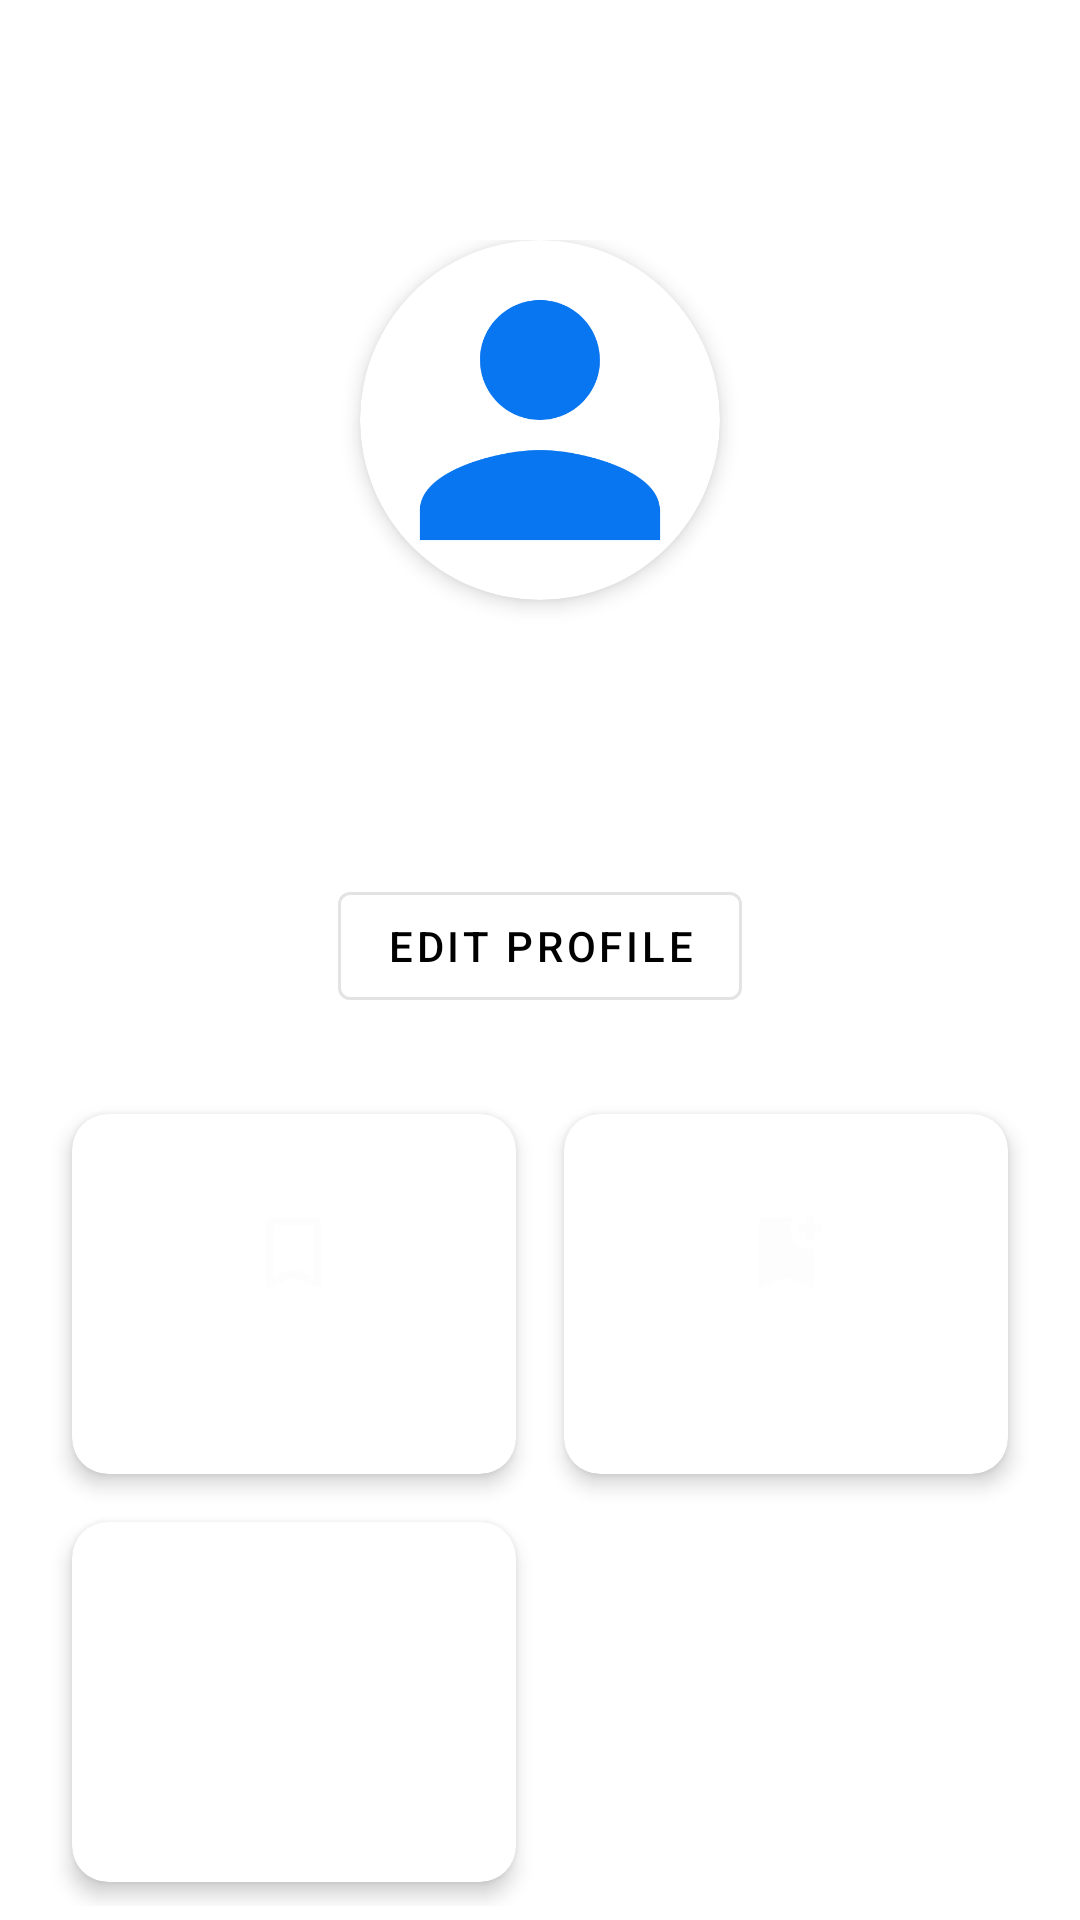

Screen size 1080*1920. Icon name, then its box in pixels as (x1, y1, x2, y2):
person: (361, 300, 719, 600)
